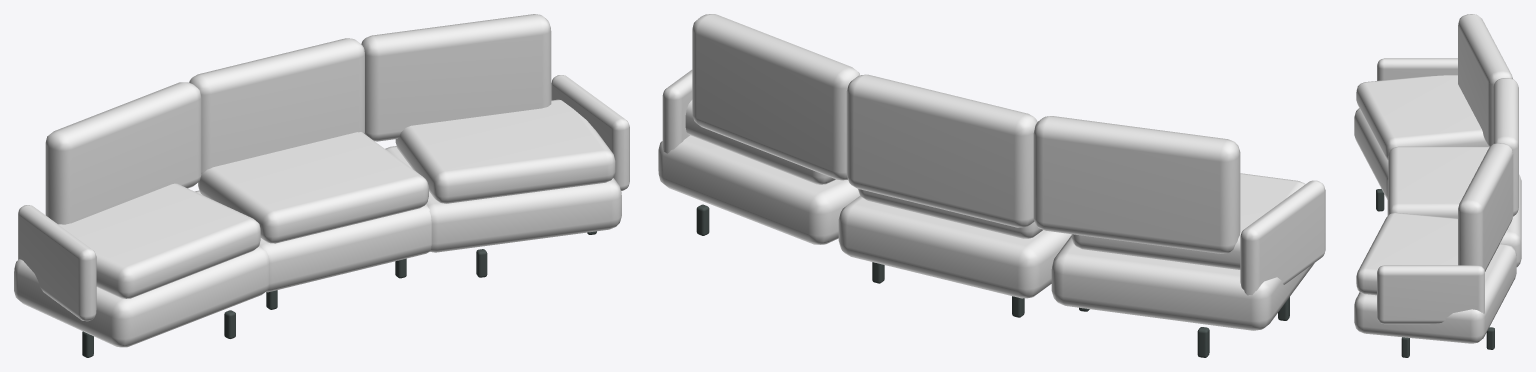
Rendered from curved-sofa-v1.glb.
The picture shows the model from 3 angles, left to right: view 1: azimuth 30°, elevation 25°; view 2: azimuth 150°, elevation 25°; view 3: azimuth 270°, elevation 25°; orthographic projection. The views are drawn at different scales.
Parts seen in each view (by area): view 1: Upholstered modular plinth; view 2: Upholstered modular plinth; view 3: Upholstered modular plinth.
Part boxes in pixels (x1,y1,x2,y2): Upholstered modular plinth: (14,14,629,357); Upholstered modular plinth: (658,14,1325,357); Upholstered modular plinth: (1354,14,1521,357).
Size of the model in its own units: 2.96 by 0.96 by 0.9613.
2 materials, 1 textured.
